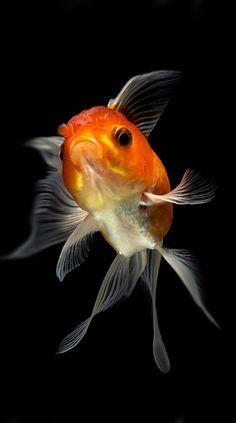goldfish: (10, 86, 232, 349)
